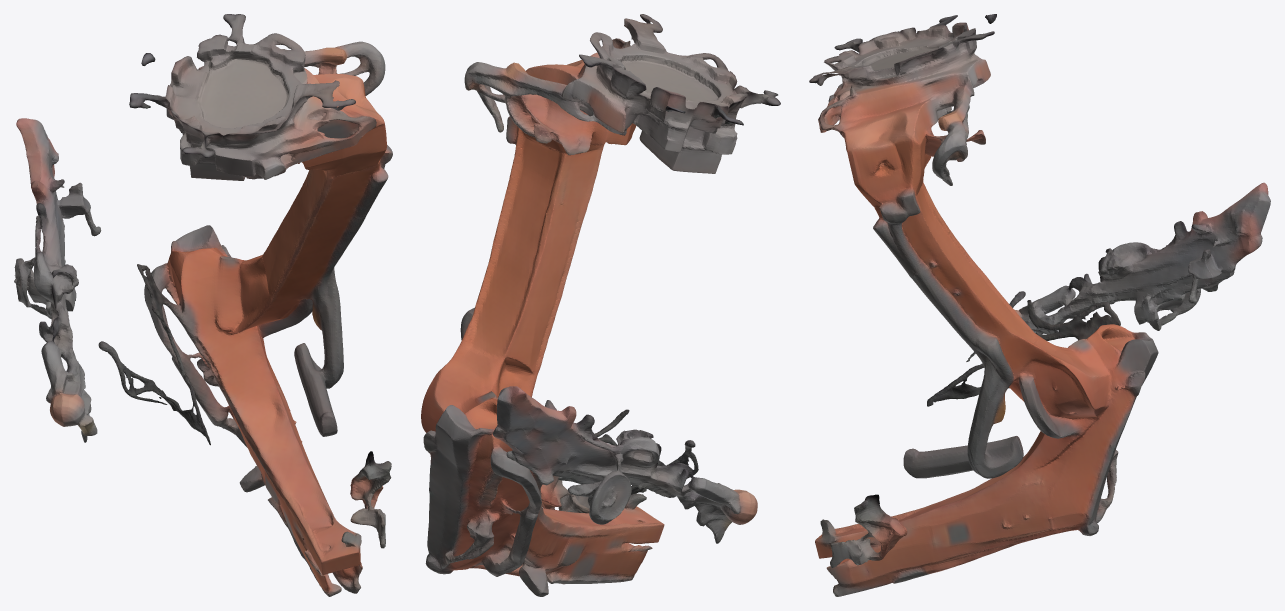
Rendered from robot-v2.glb.
3 renders of one model, left to right at view 1: azimuth 30°, elevation 25°; view 2: azimuth 150°, elevation 25°; view 3: azimuth 270°, elevation 25°, orthographic. The views are drawn at different scales.
Visible parts, largest first — view 1: world; view 2: world; view 3: world.
Boxes of the visible parts, left/top/right/bottom form: world: left=14, top=14, right=392, bottom=596; world: left=421, top=14, right=780, bottom=596; world: left=809, top=14, right=1270, bottom=596.
Bounding box in the file's own units: 2.45 × 4.24 × 3.27.
